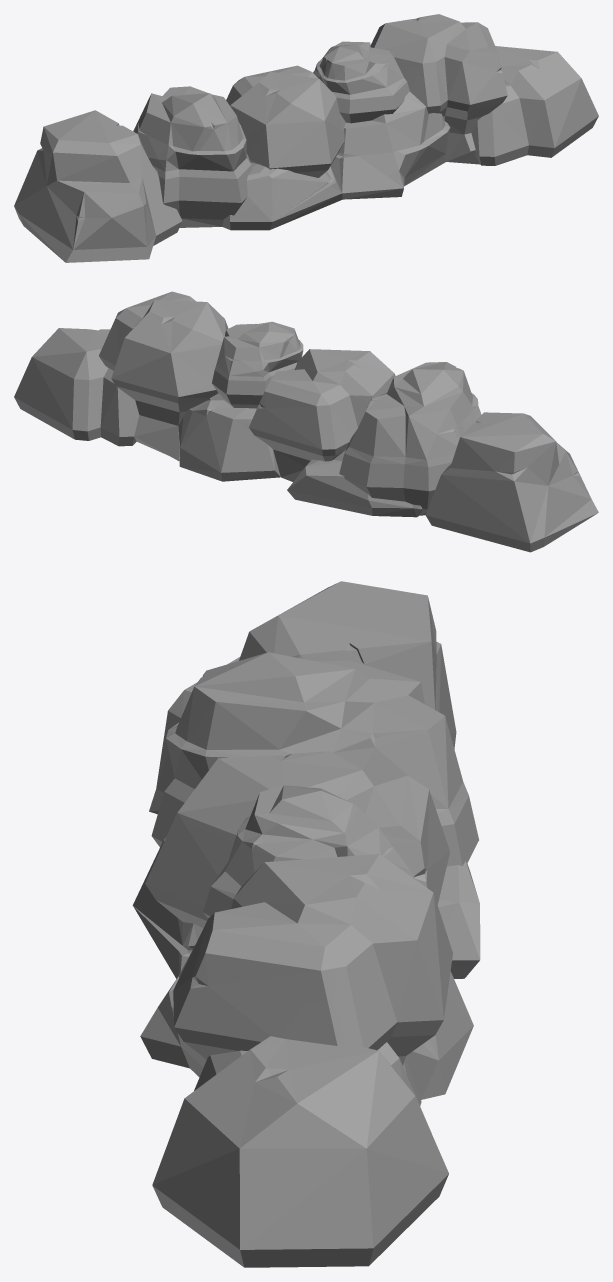
The model's file is rock__rockwall_straight_light.glb.
3 views of the same model, one above another, from view 1: azimuth 30°, elevation 25°; view 2: azimuth 150°, elevation 25°; view 3: azimuth 270°, elevation 25° (orthographic). The views are drawn at different scales.
Parts seen in each view (by area): view 1: rockwall.straight.light; view 2: rockwall.straight.light; view 3: rockwall.straight.light.
Part boxes in pixels (bbox=[...]): rockwall.straight.light: bbox=[14, 14, 598, 262]; rockwall.straight.light: bbox=[14, 291, 598, 552]; rockwall.straight.light: bbox=[132, 581, 480, 1267].
Bounding box in the file's own units: 6.74 × 1.5 × 1.88.
1 material, 1 textured.
